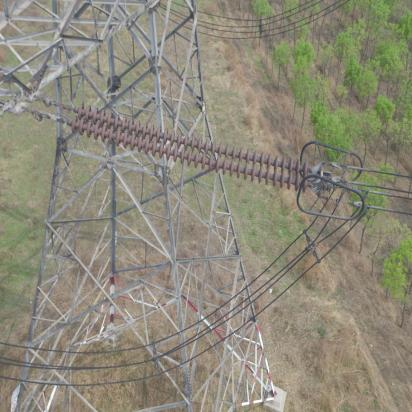insulator: (51, 103, 317, 196)
